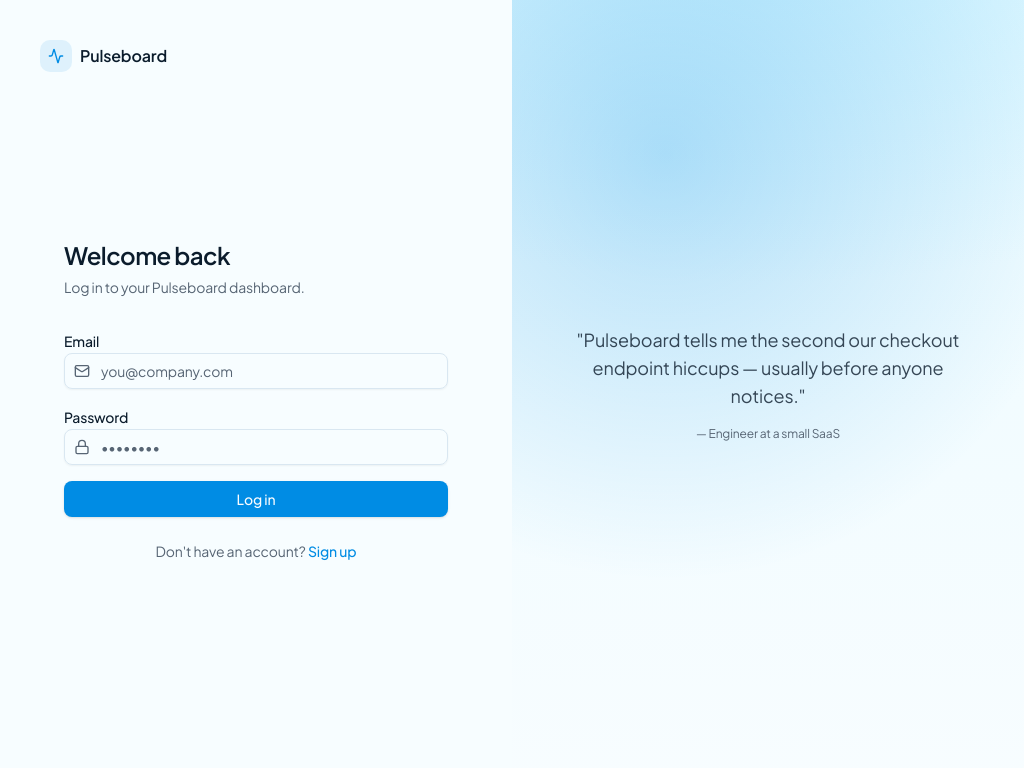
Scenario: Login Page › shows error message when login fails
Type "bad@test.com" into the field labelled "Email" at (256, 371), box [64,353,448,389]
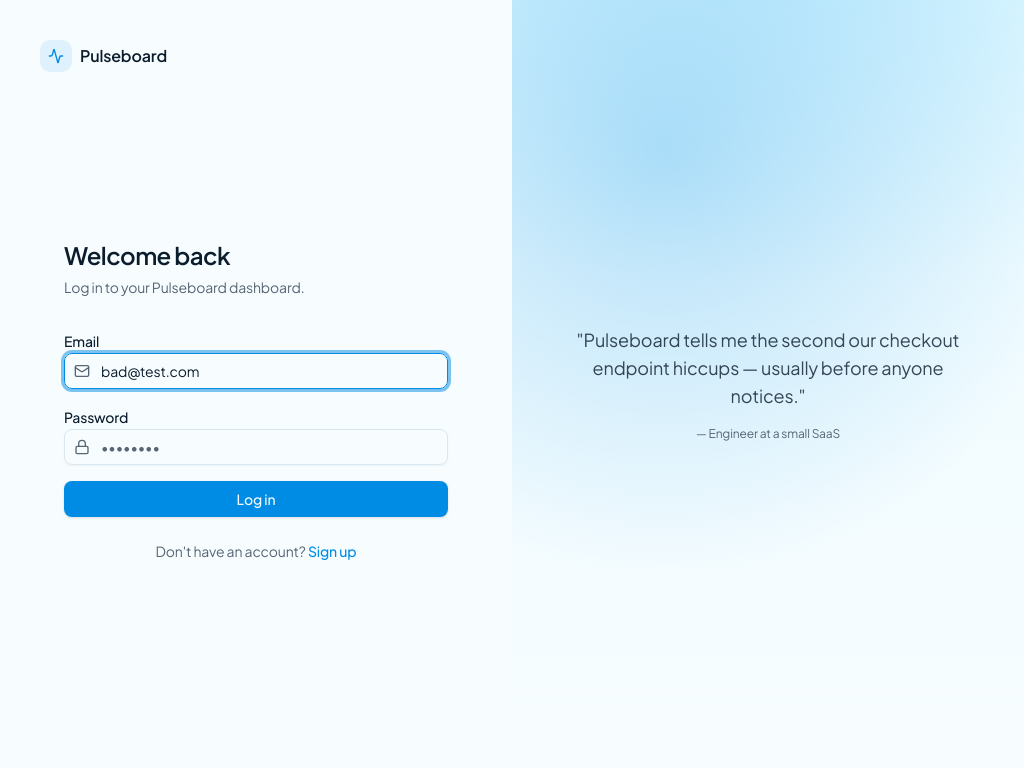
Type "wrong" into the password field labelled "Password" at (256, 447), box [64,429,448,465]
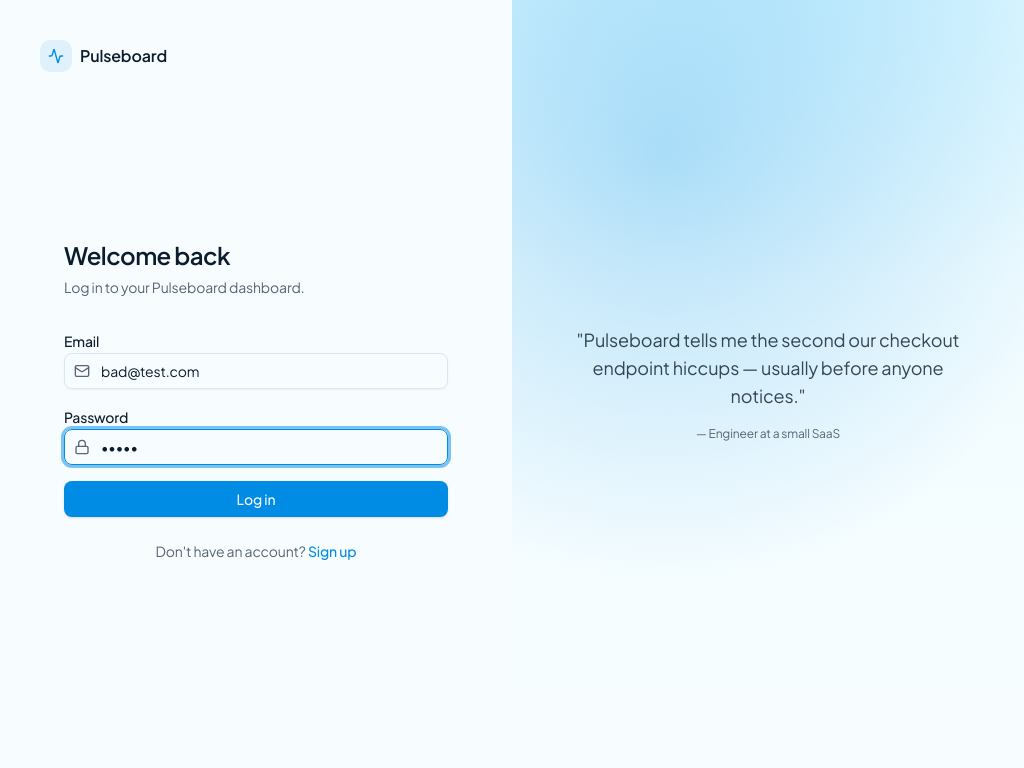
Click the button "Log in" at (256, 499), box [64,481,448,517]
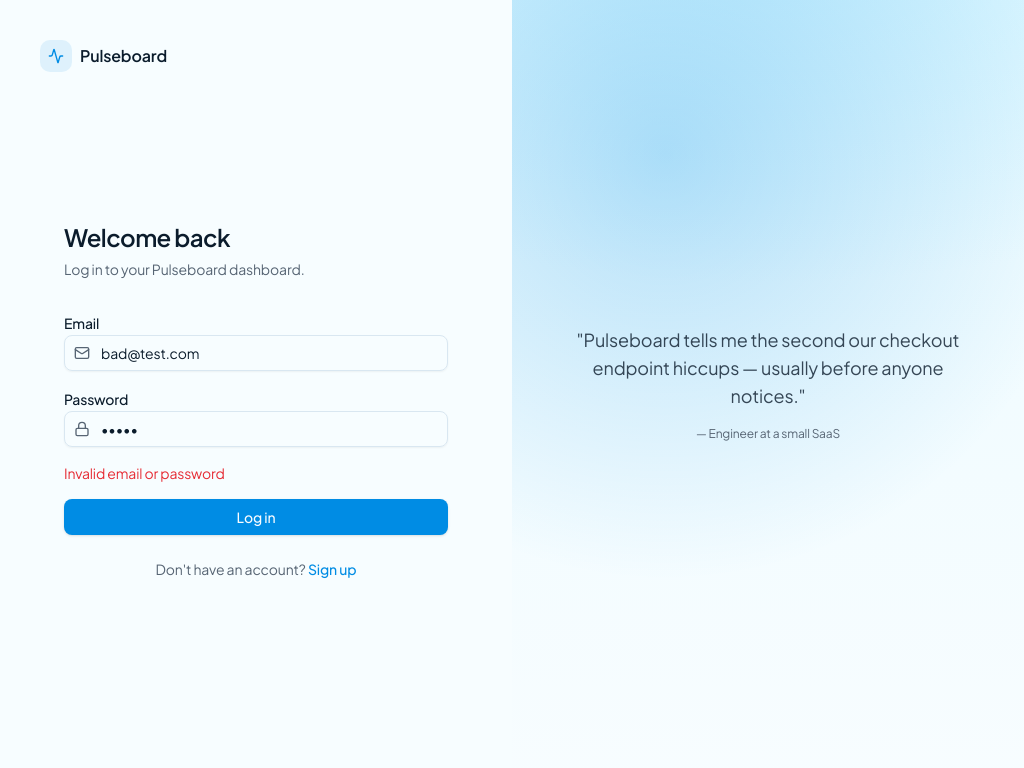
Check: the text "Invalid email or password" is shown, box [64,464,225,482]
